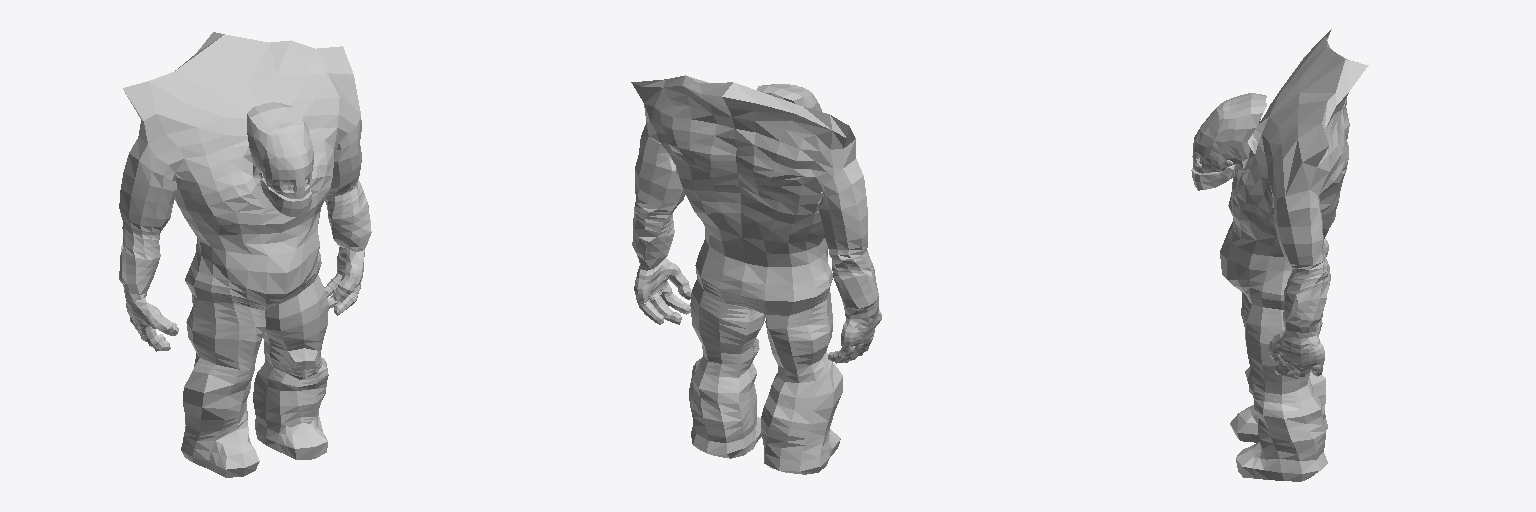
The model's file is golem_000010.obj.
3 renders of one model, left to right at view 1: azimuth 30°, elevation 25°; view 2: azimuth 150°, elevation 25°; view 3: azimuth 270°, elevation 25°, orthographic.
Visible parts, largest first — view 1: golem; view 2: golem; view 3: golem.
Boxes of the visible parts, box(x1,y1,x2,y2) form: golem: box(119, 32, 371, 477); golem: box(631, 75, 881, 474); golem: box(1191, 29, 1368, 481).
Bounding box in the file's own units: 7.35 × 11.31 × 4.61.